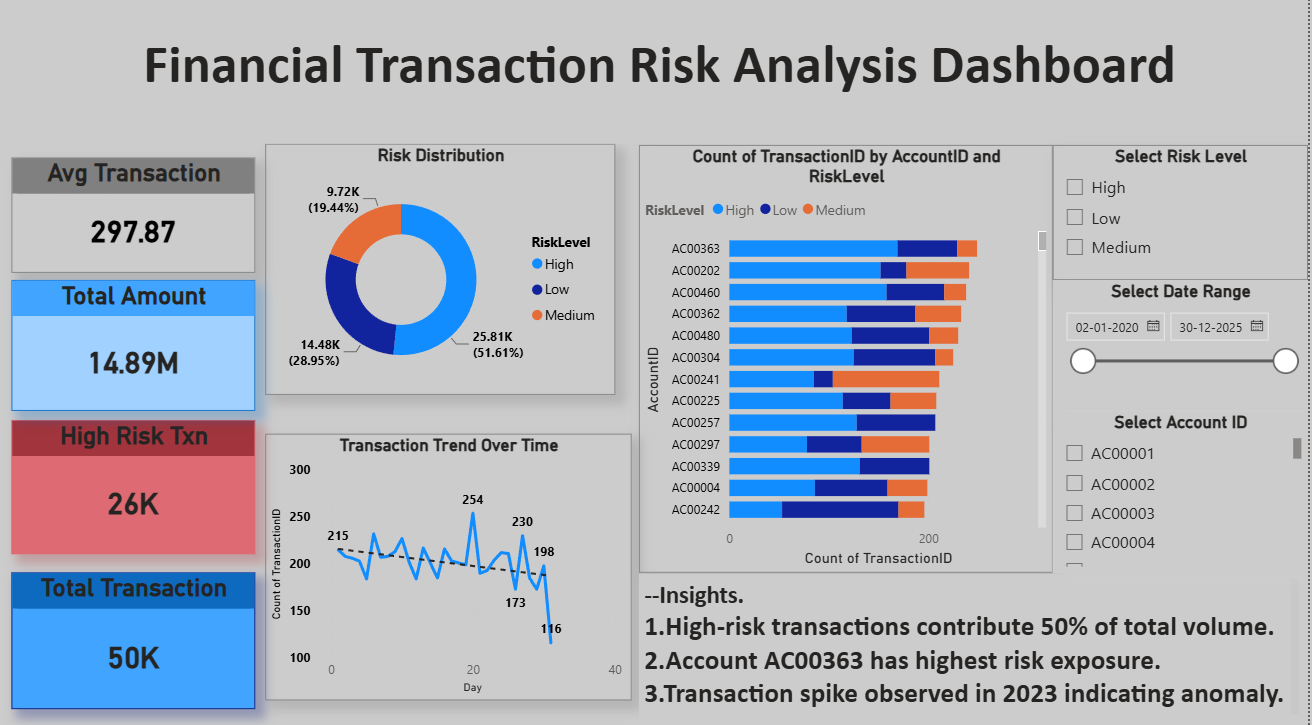

What the dashboard file says about the page in this screenshot:
{"tool":"powerbi","page":{"name":"Page 1","canvas":[1280,720],"ordinal":0},"visuals":[{"type":"card","title":"Avg Transaction","fields":{"Values":["transactions.Avg Transaction"]},"box":[12.2,163.9,238.5,112.5],"z":0},{"type":"card","title":"High Risk Txn","fields":{"Values":["transactions.High Risk Txn"]},"box":[12.2,420.7,238.5,130.8],"z":1000},{"type":"card","title":"Total Amount","fields":{"Values":["transactions.Total Amount"]},"box":[12.2,283.7,238.5,128.4],"z":2000},{"type":"card","title":"Total Transaction","fields":{"Values":["transactions.Total Transactions"]},"box":[12.2,569.8,238.5,133.3],"z":3000},{"type":"donutChart","title":"Risk Distribution","fields":{"Category":["transactions.RiskLevel"],"Y":["CountNonNull(transactions.TransactionID)"]},"box":[260.5,150.4,342.4,245.8],"z":4000},{"type":"lineChart","title":"Transaction Trend Over Time","fields":{"Category":["transactions.TransactionDate.Variation.Date Hierarchy.Day"],"Y":["CountNonNull(transactions.TransactionID)"]},"box":[260.5,434.1,358.3,260.5],"z":5000},{"type":"barChart","fields":{"Category":["transactions.AccountID"],"Series":["transactions.RiskLevel"],"Y":["CountNonNull(transactions.TransactionID)"]},"box":[626.1,151.6,404.8,418.2],"z":6000},{"type":"textbox","box":[12.2,0,1268.1,150.4],"z":7000},{"type":"textbox","box":[626.1,571.1,650.5,149.2],"z":8000},{"type":"slicer","title":"Select Risk Level","fields":{"Values":["transactions.RiskLevel"]},"box":[1030.8,151.6,249.5,132.1],"z":8001},{"type":"slicer","title":"Select Date Range","fields":{"Values":["transactions.TransactionDate"]},"box":[1030.8,283.7,249.5,128.4],"z":8002},{"type":"slicer","title":"Select Account ID","fields":{"Values":["transactions.AccountID"]},"box":[1031,412,249,158],"z":8003}]}

Visuals, with their boxes in screenshot pixels (x1, y1, x2, y2), scaled from the page's 1280x720 canvas onto the 1312x725 screenshot:
"Avg Transaction" card: 13,165,257,278
"High Risk Txn" card: 13,424,257,555
"Total Amount" card: 13,286,257,415
"Total Transaction" card: 13,574,257,708
"Risk Distribution" donutChart: 267,151,618,399
"Transaction Trend Over Time" lineChart: 267,437,634,699
barChart - transactions.AccountID x transactions.RiskLevel: 642,153,1057,574
textbox: 13,0,1311,151
textbox: 642,575,1309,724
"Select Risk Level" slicer: 1057,153,1311,286
"Select Date Range" slicer: 1057,286,1311,415
"Select Account ID" slicer: 1057,415,1311,574
